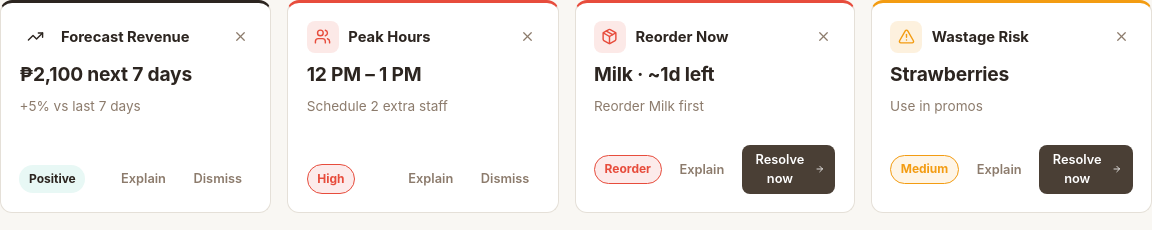
Test: AiInsights › Explain button › should narrate the card on Explain tap
Click the button with test id "insight-explain-forecast".
click(144, 179)  # box [111,163,176,194]
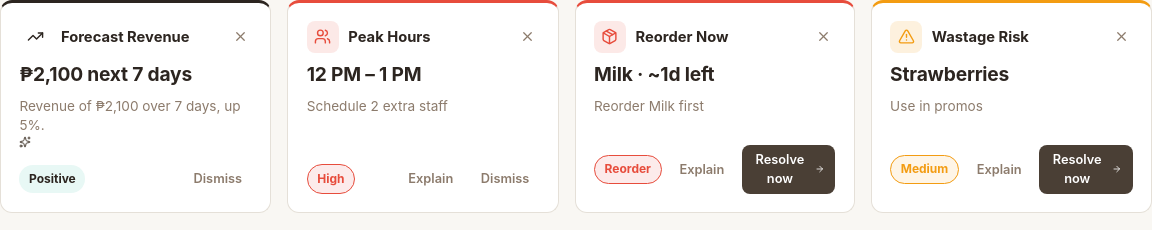
Result: the element with test id "insight-explained-forecast" is shown at [19,97,252,148]
Result: the element with test id "insight-explained-forecast" shows "Revenue of ₱2,100" at [19,98,241,133]
Result: the icon named "AI narration" is shown at [19,136,31,148]
